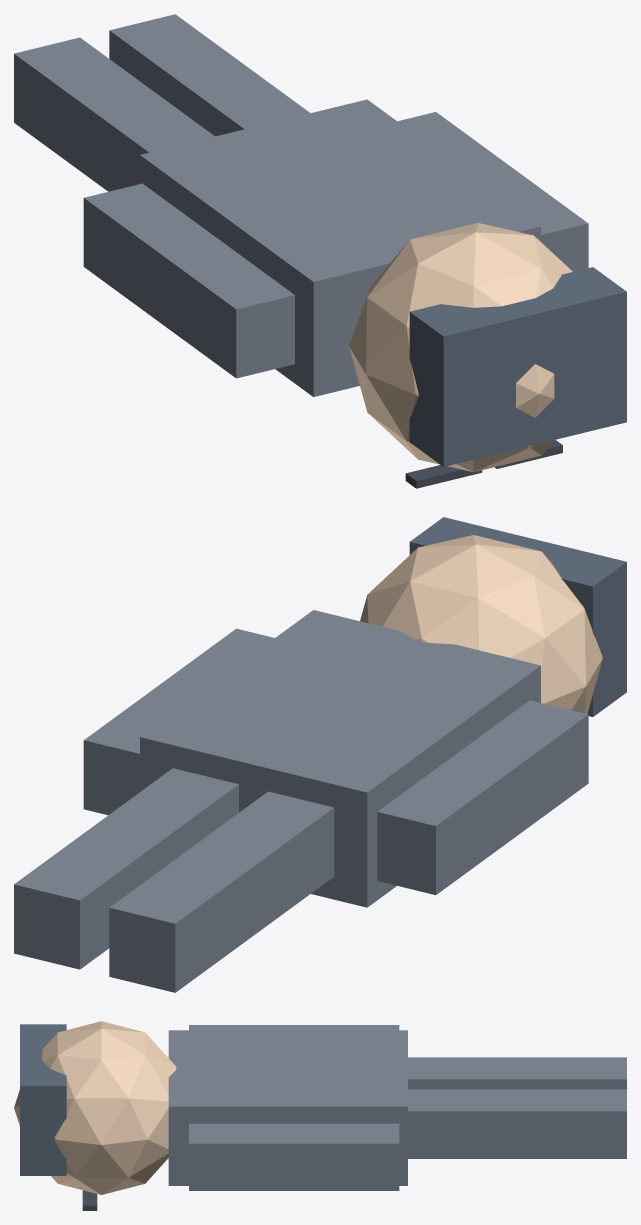
The model's file is engineer.glb.
The picture shows the model from 3 angles, top to bottom: view 1: azimuth 30°, elevation 25°; view 2: azimuth 150°, elevation 25°; view 3: azimuth 270°, elevation 25°; orthographic projection. The views are drawn at different scales.
Visible parts, largest first — view 1: torso_2, hair_6, arm_l_3, head_5, leg_l_0, leg_r_1, arm_r_4, glasses_l_9; view 2: torso_2, leg_l_0, arm_l_3, head_5, leg_r_1, arm_r_4, hair_6; view 3: torso_2, head_5, leg_r_1, arm_r_4, leg_l_0, hair_6, arm_l_3, glasses_r_10.
Boxes of the visible parts, x1,y1,x2,y2 form: torso_2: (140,99,540,396); hair_6: (409,267,626,466); arm_l_3: (83,183,294,378); head_5: (349,223,572,472); leg_l_0: (14,37,214,191); leg_r_1: (109,14,310,136); arm_r_4: (397,112,588,271); glasses_l_9: (405,465,482,488); torso_2: (140,610,540,907); leg_l_0: (109,791,334,992); arm_l_3: (377,700,588,894); head_5: (360,535,602,714); leg_r_1: (14,768,238,969); arm_r_4: (83,628,274,815); hair_6: (409,517,626,716); torso_2: (168,1030,407,1185); head_5: (14,1021,176,1194); leg_r_1: (408,1089,626,1158); arm_r_4: (189,1123,399,1190); leg_l_0: (408,1057,626,1089); hair_6: (20,1024,66,1175); arm_l_3: (189,1025,399,1030); glasses_r_10: (82,1190,97,1210).
Bounding box in the file's own units: 0.96 × 0.6 × 2.1.
